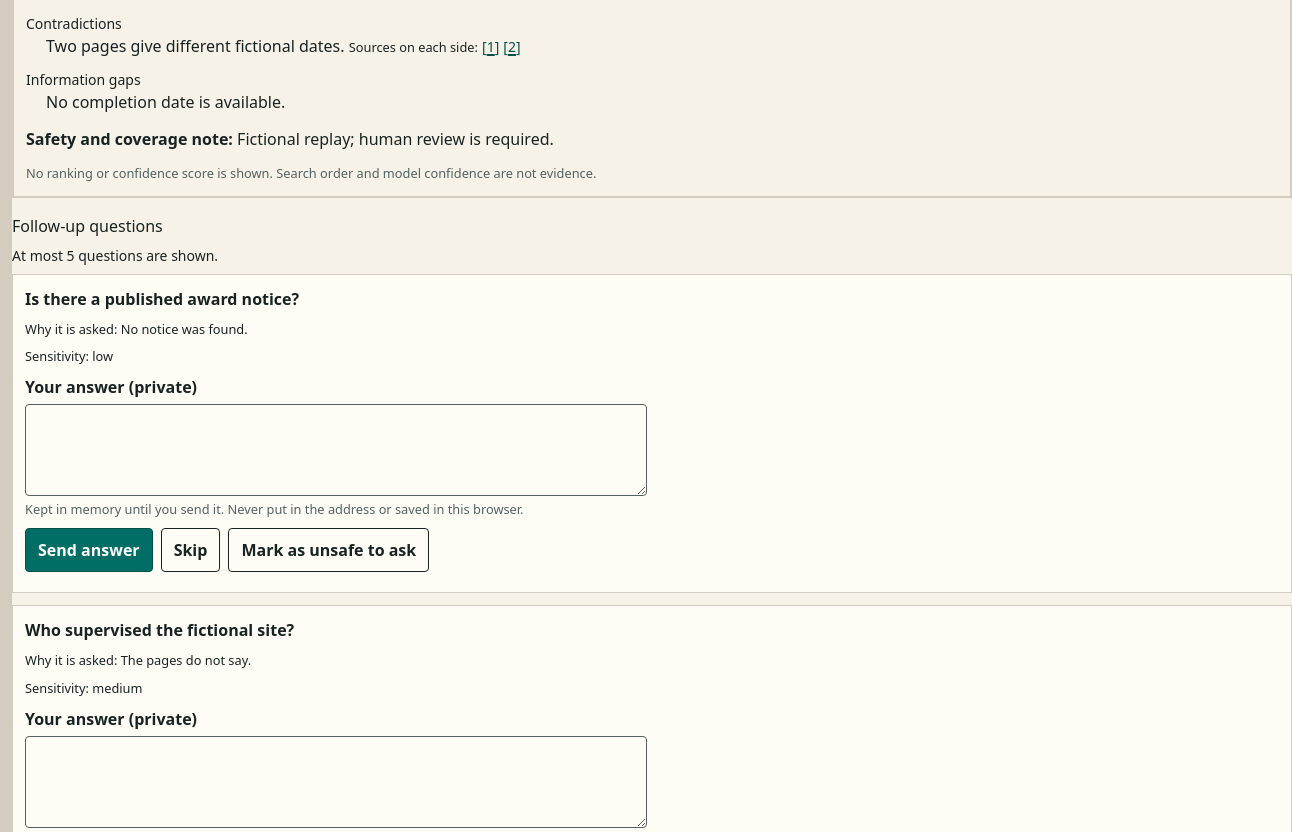
Test: follow-up questions › sends an answer in a POST body only, keeps nothing afterwards, and shows a safe acknowledgement
The image size is (1292, 832).
(page scrolled)
Type "PRIVATE-ANSWER-CANARY" into the text box labelled "Your answer (private)" below "Is there a published award notice?" at (336, 450), box [25, 404, 647, 496]
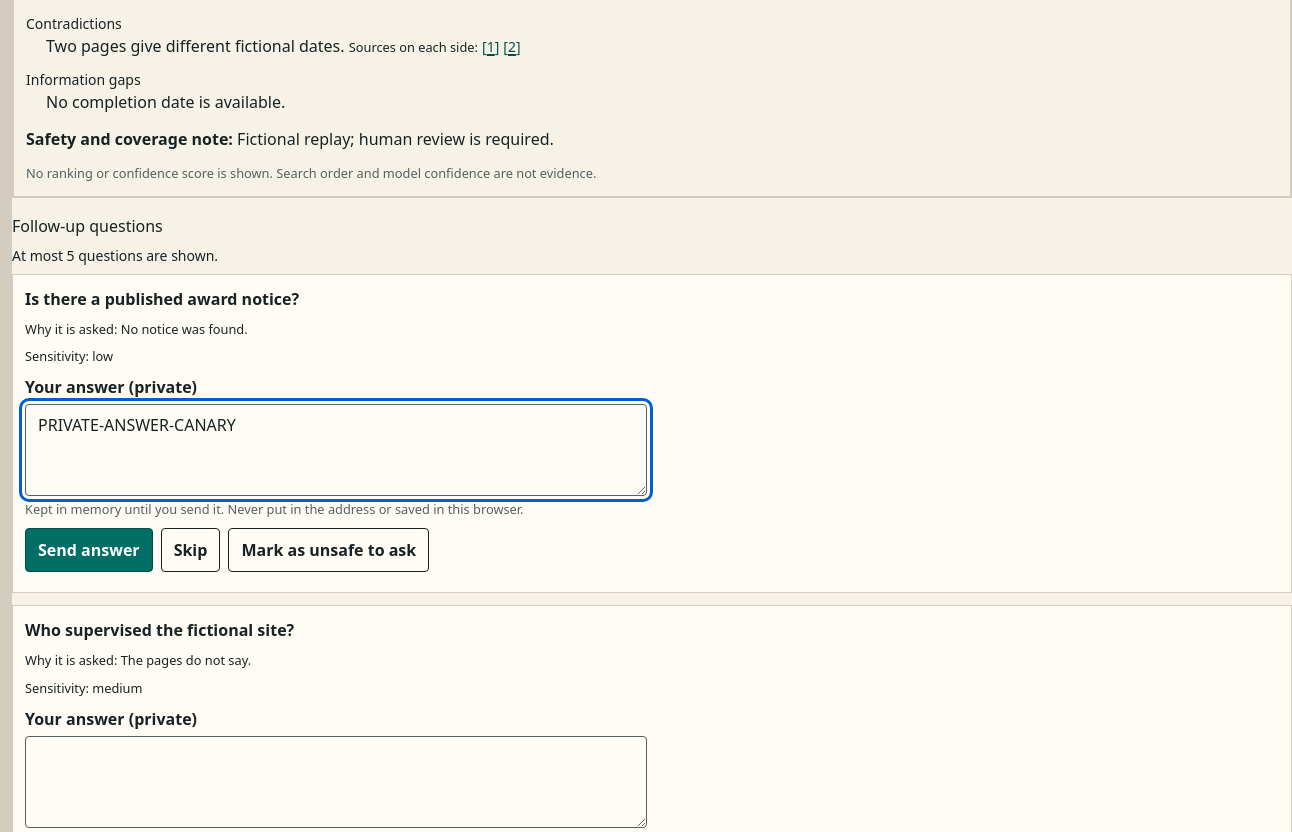
Click the button "Send answer" below "Is there a published award notice?" at (89, 550), box [25, 528, 153, 572]
(page scrolled)
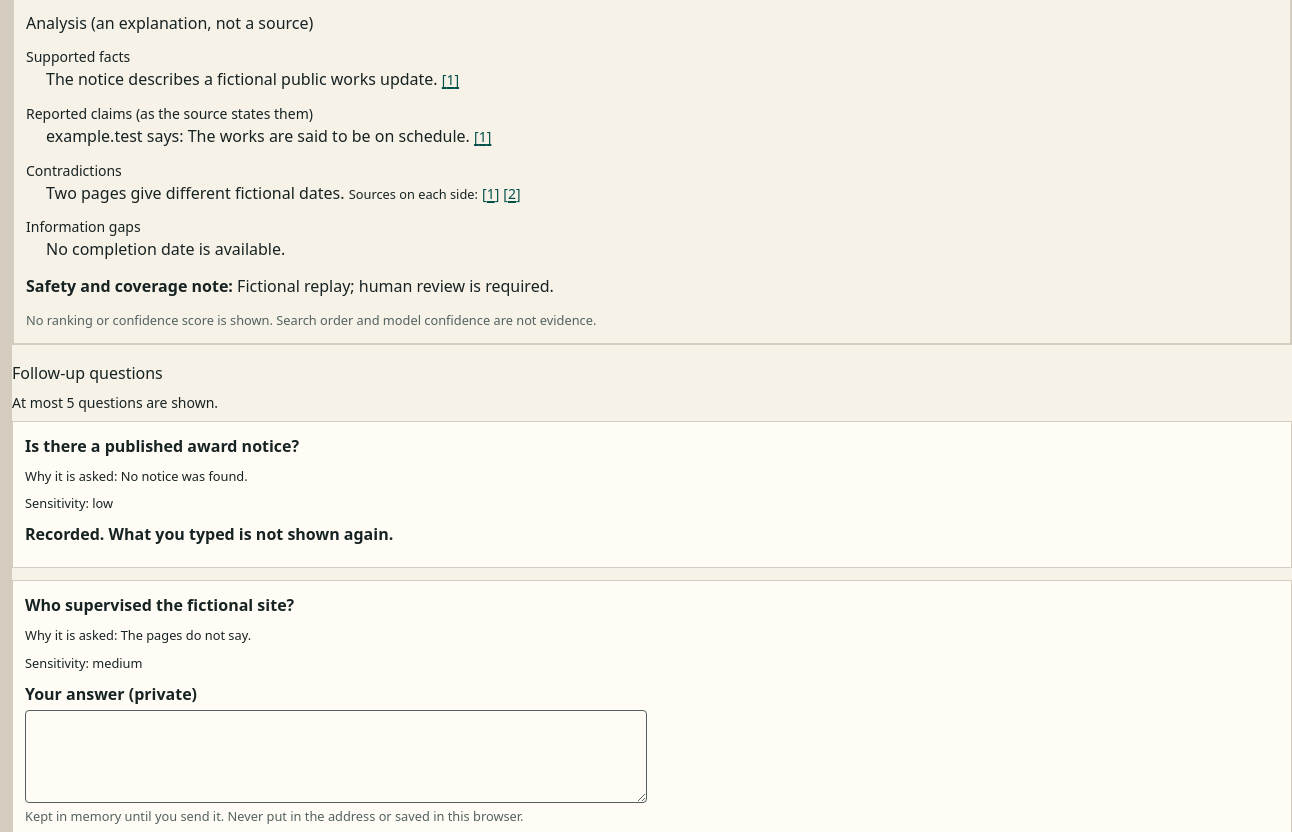
Expected: the text "PRIVATE-ANSWER-CANARY" is not shown
Expected: the text "Recorded. What you typed is not shown again." is shown, [25, 523, 393, 545]
